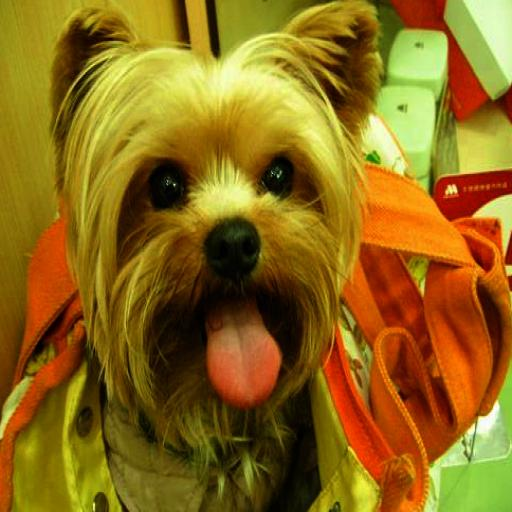dog_face: (54, 2, 371, 444)
